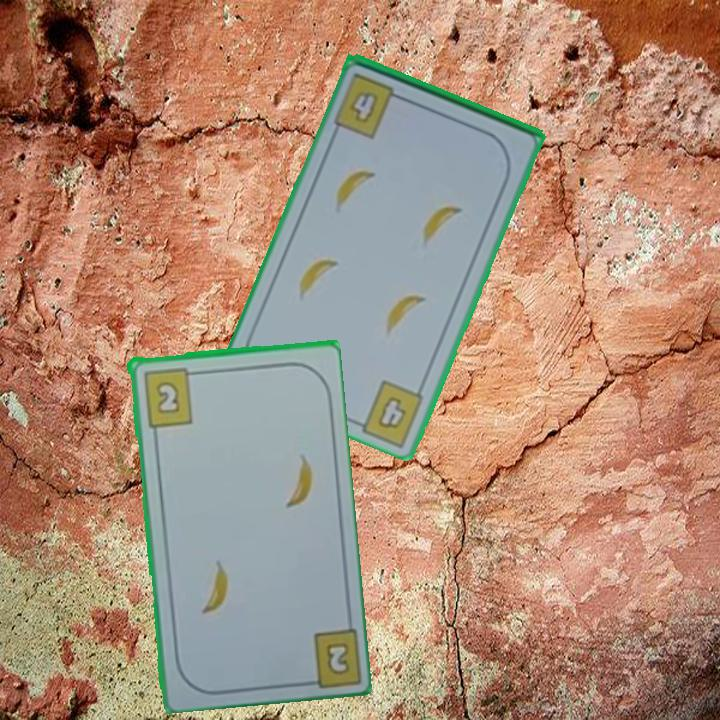2b: (296, 622, 361, 688), (139, 364, 200, 429)
4b: (334, 69, 409, 141), (374, 393, 410, 433)
